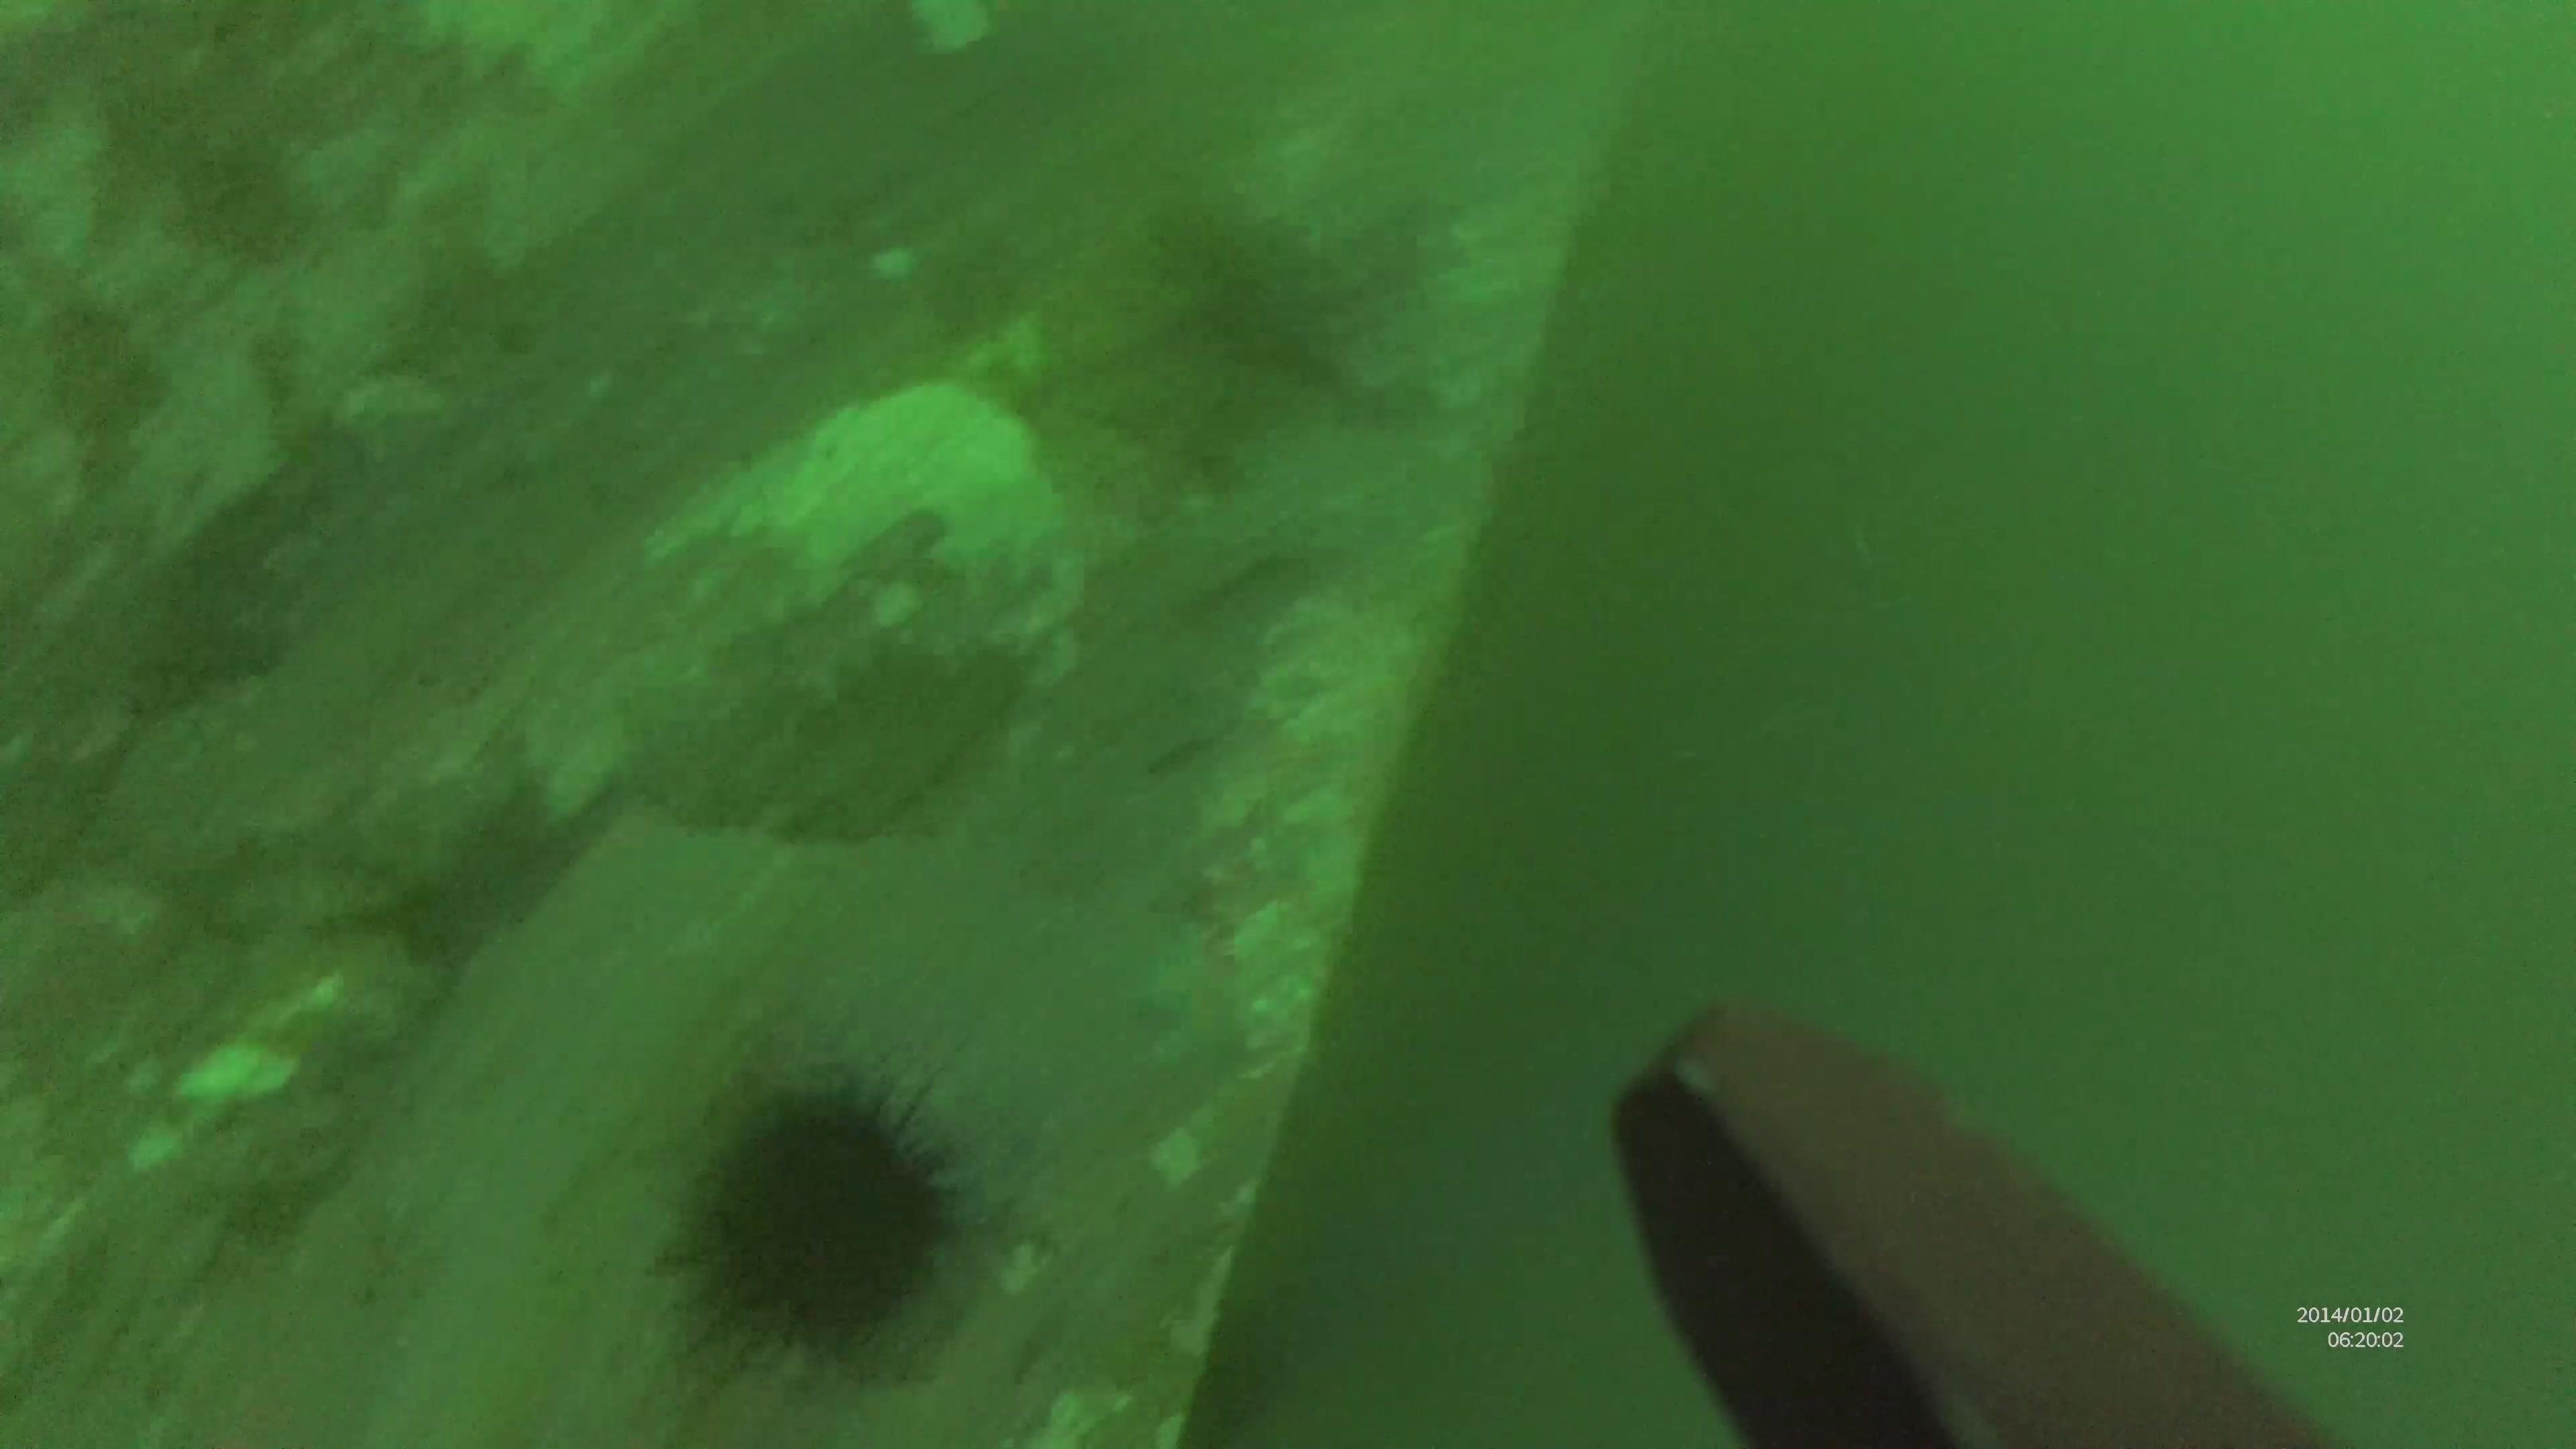echinus: (639, 1046, 977, 1391)
